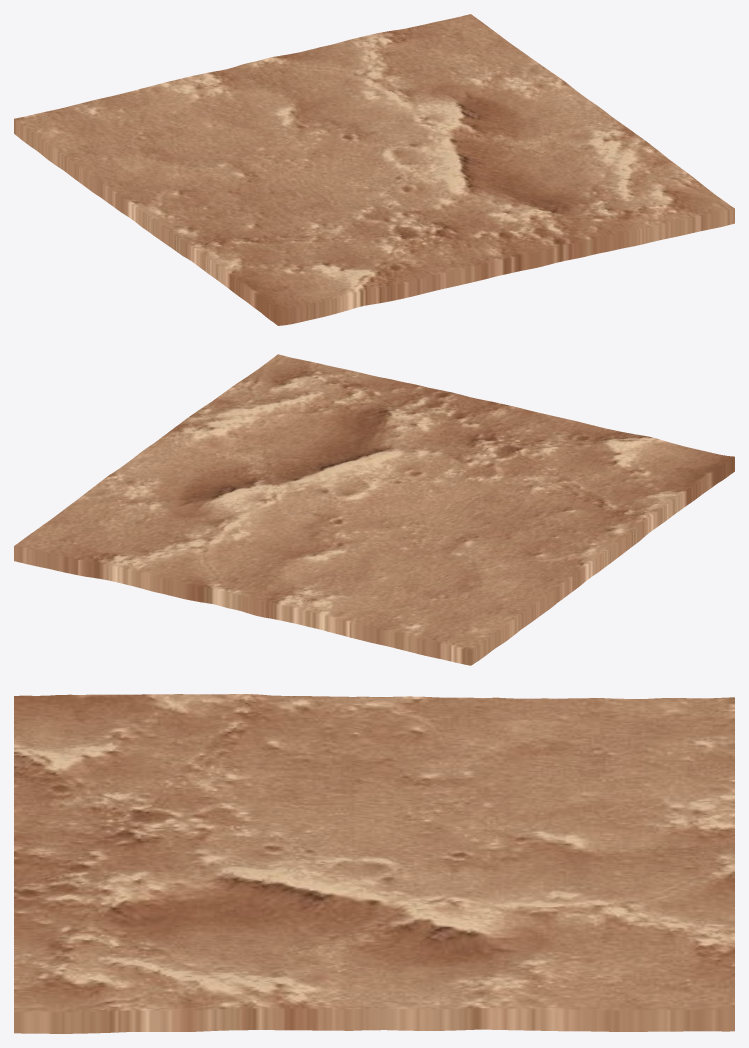
The picture shows the model from 3 angles, top to bottom: view 1: azimuth 30°, elevation 25°; view 2: azimuth 150°, elevation 25°; view 3: azimuth 270°, elevation 25°; orthographic projection. The views are drawn at different scales.
Visible parts, largest first — view 1: L6_36_5; view 2: L6_36_5; view 3: L6_36_5.
Part boxes in pixels (<box>): L6_36_5: <box>14,14,734,325</box>; L6_36_5: <box>14,354,734,665</box>; L6_36_5: <box>14,694,734,1033</box>.
Size of the model in its own units: 225 by 12.21 by 225.
Materials: 1 (1 with a texture image).
